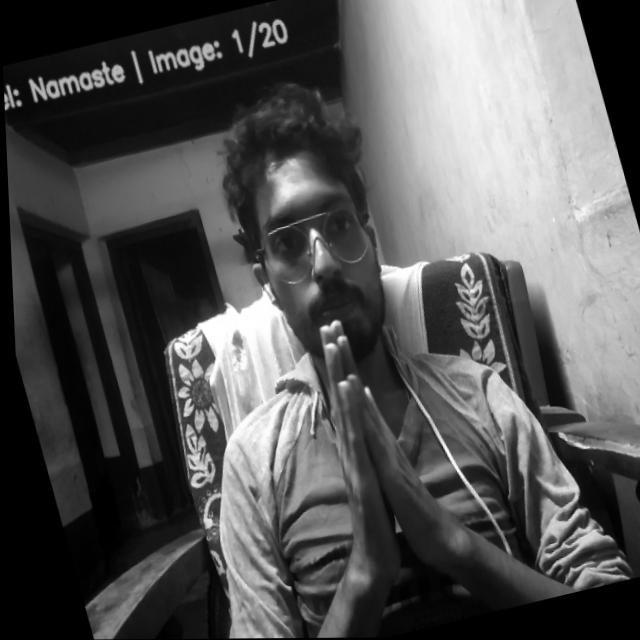Namaste: (269, 300, 474, 613)
